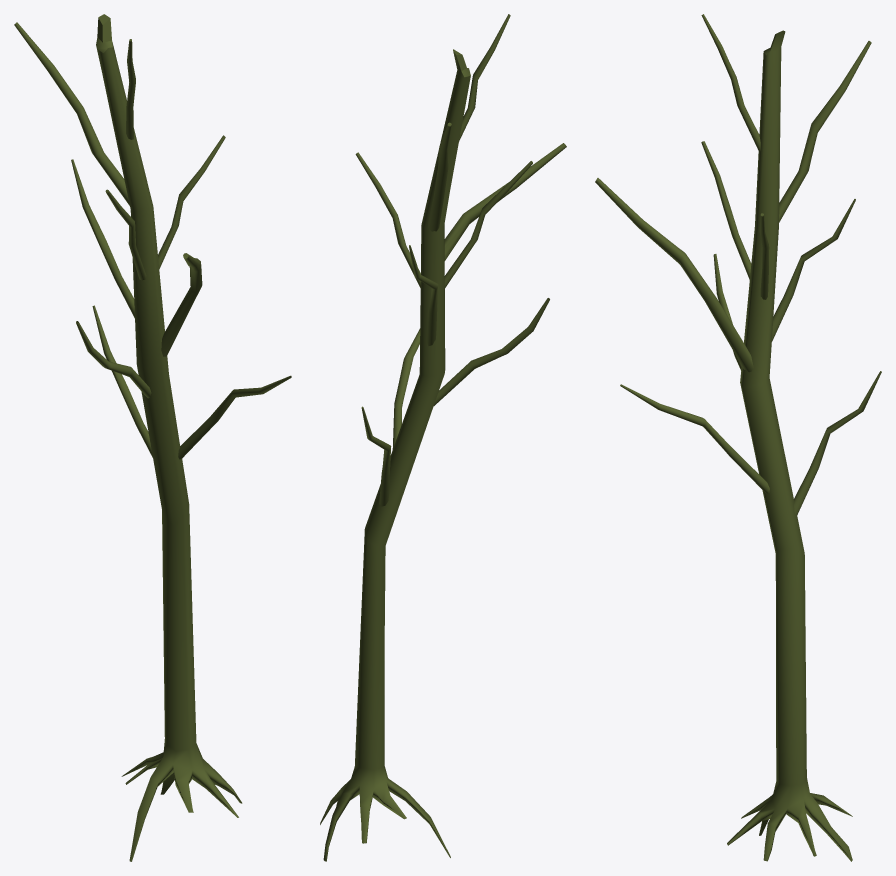
Rendered from birch_01_GEO.fbx.
3 renders of one model, left to right at view 1: azimuth 30°, elevation 25°; view 2: azimuth 150°, elevation 25°; view 3: azimuth 270°, elevation 25°, orthographic. The views are drawn at different scales.
Visible parts, largest first — view 1: birch_01_GEO; view 2: birch_01_GEO; view 3: birch_01_GEO.
Part boxes in pixels (x1,y1,x2,y2): birch_01_GEO: [14, 14, 291, 861]; birch_01_GEO: [320, 14, 566, 861]; birch_01_GEO: [595, 14, 881, 861].
Size of the model in its own units: 0.0152 by 0.0645 by 0.0208.
